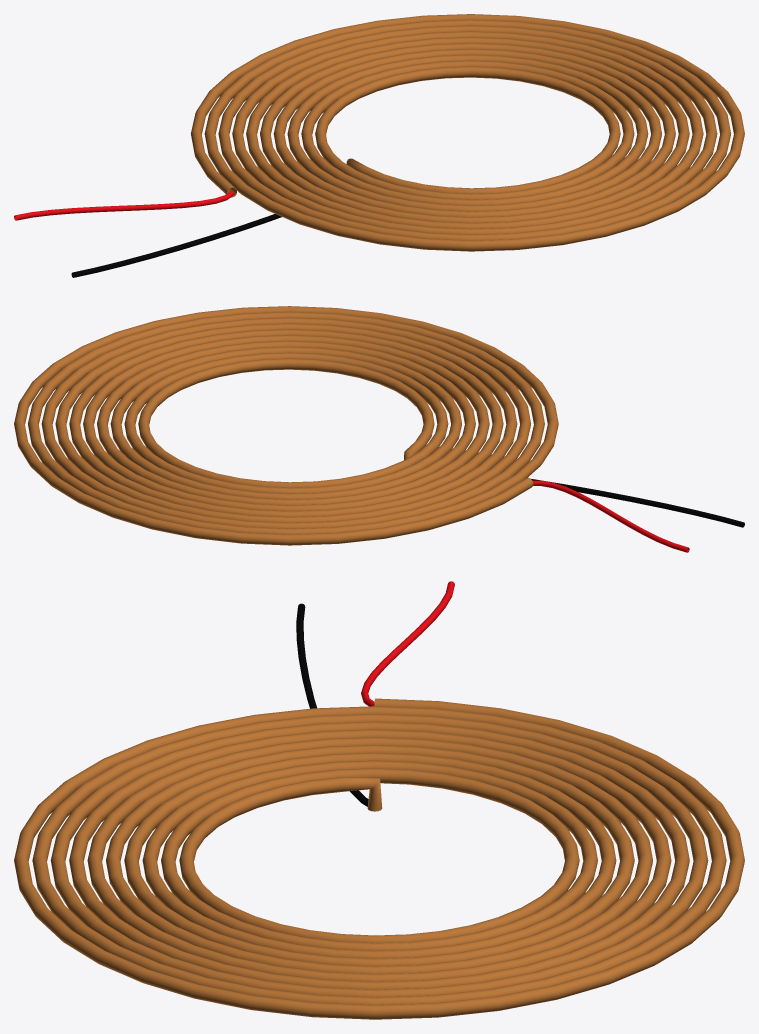
Rendered from 发射线圈.glb.
The picture shows the model from 3 angles, top to bottom: view 1: azimuth 30°, elevation 25°; view 2: azimuth 150°, elevation 25°; view 3: azimuth 270°, elevation 25°; orthographic projection. The views are drawn at different scales.
Parts seen in each view (by area): view 1: Spiral, 贝塞尔曲线.001, 贝塞尔曲线; view 2: Spiral, 贝塞尔曲线, 贝塞尔曲线.001; view 3: Spiral, 贝塞尔曲线.001, 贝塞尔曲线.
Boxes of the visible parts, x1,y1,x2,y2 form: Spiral: (191, 14, 744, 251); 贝塞尔曲线.001: (14, 191, 234, 220); 贝塞尔曲线: (71, 214, 281, 277); Spiral: (14, 306, 558, 545); 贝塞尔曲线: (531, 479, 744, 527); 贝塞尔曲线.001: (532, 480, 689, 552); Spiral: (14, 698, 744, 1019); 贝塞尔曲线.001: (361, 581, 454, 706); 贝塞尔曲线: (296, 603, 368, 806).
Bounding box in the file's own units: 11.12 × 0.3881 × 7.96.
